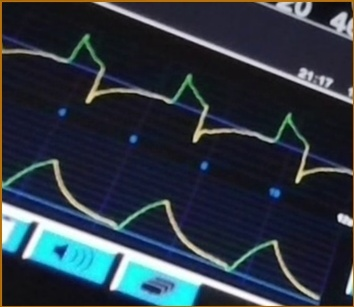Normal Flow: (5, 32, 351, 182)
Normal Volume: (3, 156, 319, 299)
